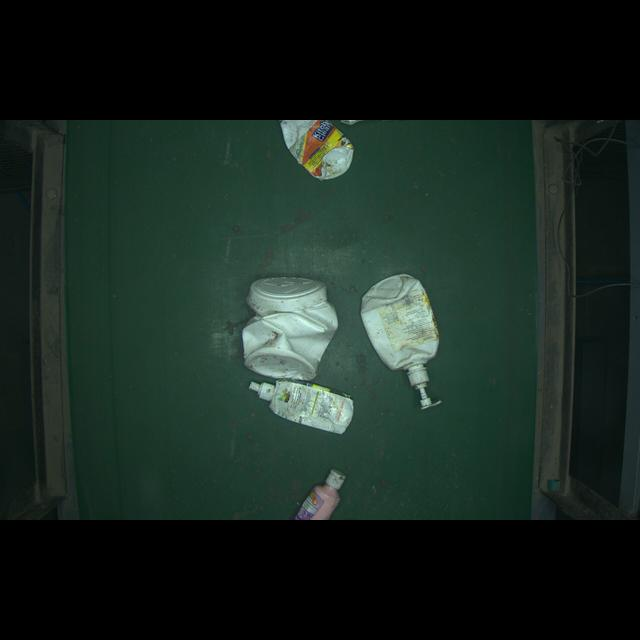mix PET: (357, 262, 470, 426), (235, 270, 342, 383), (230, 372, 370, 444), (295, 467, 349, 524)
